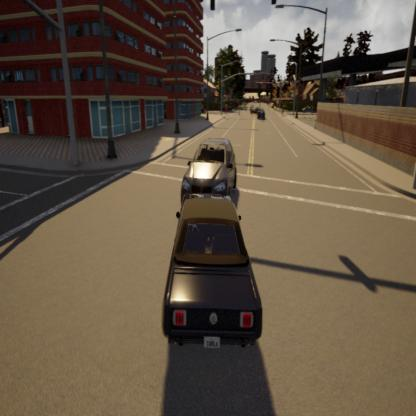Cars: (160, 182, 263, 394), (180, 129, 242, 211), (257, 105, 267, 122), (248, 104, 261, 116)
Pedestrian: (237, 102, 242, 120)
